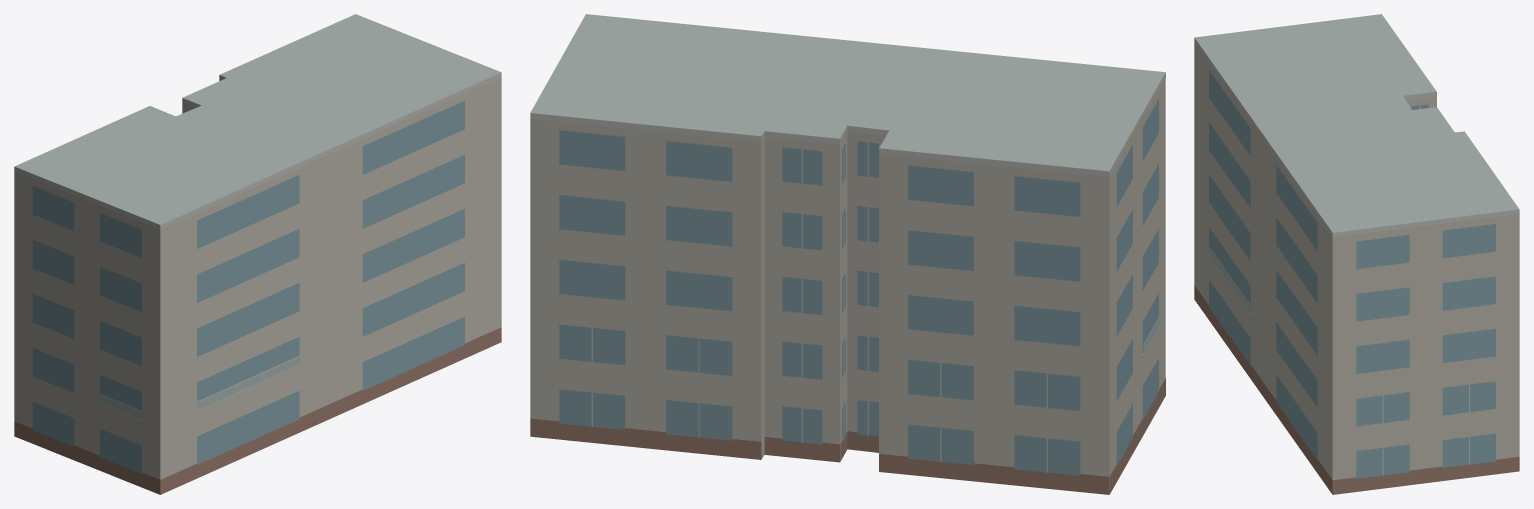
The model's file is survey-upis-32866101.glb.
3 renders of one model, left to right at view 1: azimuth 30°, elevation 25°; view 2: azimuth 150°, elevation 25°; view 3: azimuth 270°, elevation 25°, orthographic. The views are drawn at different scales.
Visible parts, largest first — view 1: survey-upis-32866101.tmp; view 2: survey-upis-32866101.tmp; view 3: survey-upis-32866101.tmp.
Boxes of the visible parts, x1,y1,x2,y2 form: survey-upis-32866101.tmp: (14, 14, 501, 494); survey-upis-32866101.tmp: (530, 14, 1165, 494); survey-upis-32866101.tmp: (1194, 14, 1519, 494).
Bounding box in the file's own units: 24.82 × 13.85 × 15.58.
